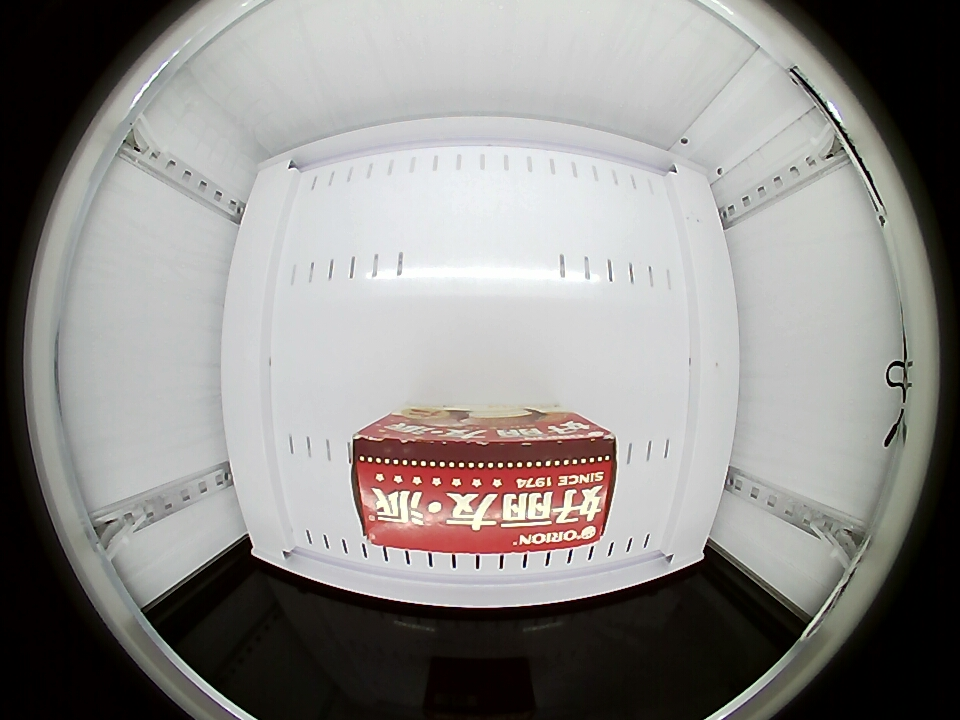haoliyou: (350, 411, 619, 553)
